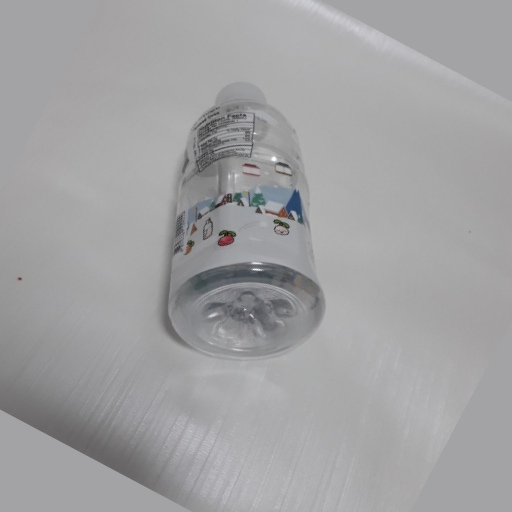Plastic_0: (164, 77, 326, 360)
